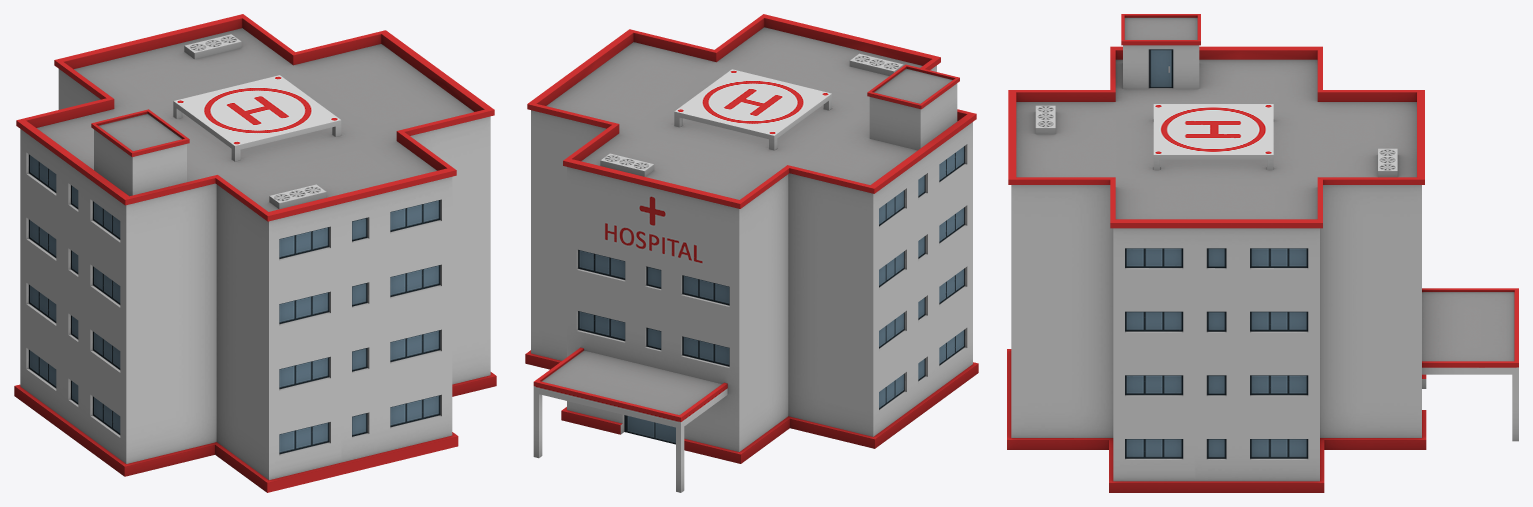
Rendered from HOS0610008.fbx.
3 views of the same model, side by side, from view 1: azimuth 30°, elevation 25°; view 2: azimuth 150°, elevation 25°; view 3: azimuth 270°, elevation 25° (orthographic). The views are drawn at different scales.
Visible parts, largest first — view 1: smHOS0610008; view 2: smHOS0610008; view 3: smHOS0610008.
Part boxes in pixels (left/top/right/bottom): smHOS0610008: left=14, top=14, right=496, bottom=492; smHOS0610008: left=525, top=14, right=978, bottom=492; smHOS0610008: left=1007, top=14, right=1518, bottom=492.
Size of what is drawn, in the model's own units: 2201 by 1784 by 2686.
1 material, 1 textured.
